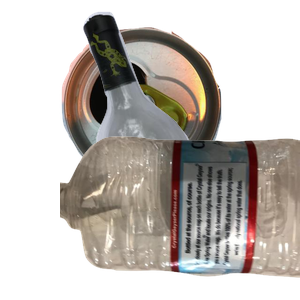glass: (81, 10, 300, 190)
metal: (59, 10, 273, 189)
plastic: (60, 134, 300, 300)
trash: (65, 148, 258, 300)
